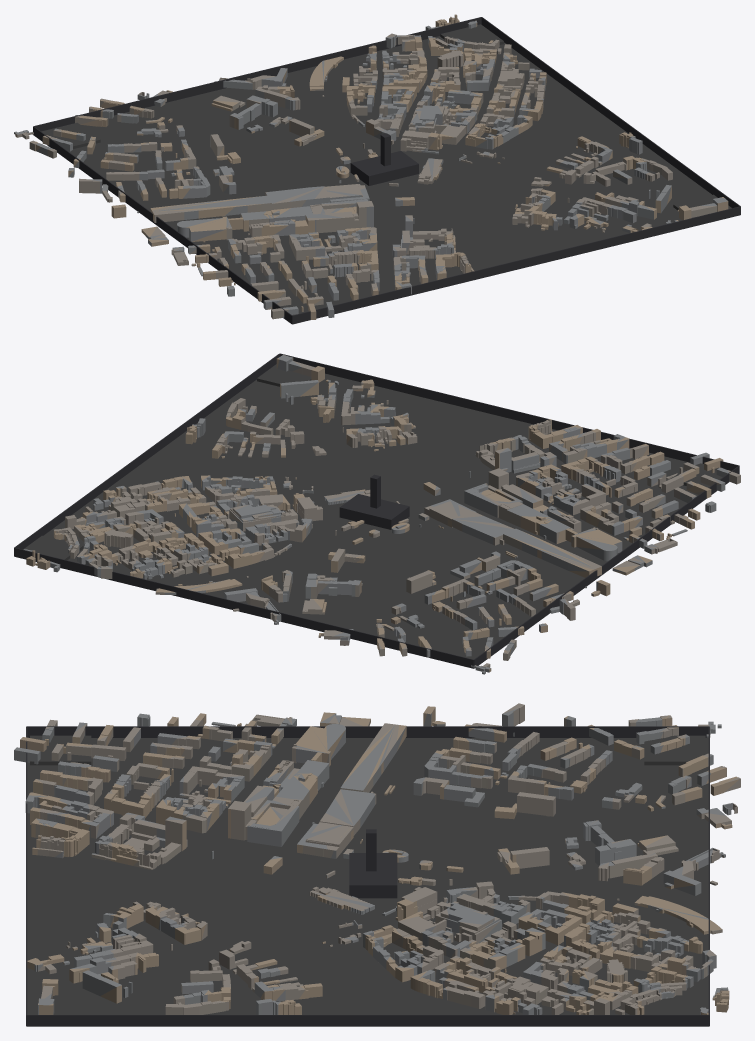
The model's file is SpandauStrike_Rathaus_FULLMAP_Collision.fbx.
3 views of the same model, one above another, from view 1: azimuth 30°, elevation 25°; view 2: azimuth 150°, elevation 25°; view 3: azimuth 270°, elevation 25° (orthographic). The views are drawn at different scales.
Parts seen in each view (by area): view 1: UCX_Spandau_FULLMAP_007, UCX_Spandau_FULLMAP_006, UCX_Spandau_FULLMAP_001, UCX_Spandau_FULLMAP_000, UCX_Spandau_FULLMAP_002, UCX_Spandau_FULLMAP_003, UCX_Spandau_FULLMAP_004, UCX_Spandau_FULLMAP_011, UCX_Spandau_FULLMAP_010; view 2: UCX_Spandau_FULLMAP_007, UCX_Spandau_FULLMAP_006, UCX_Spandau_FULLMAP_000, UCX_Spandau_FULLMAP_001, UCX_Spandau_FULLMAP_002, UCX_Spandau_FULLMAP_003, UCX_Spandau_FULLMAP_004, UCX_Spandau_FULLMAP_011, UCX_Spandau_FULLMAP_009, UCX_Spandau_FULLMAP_010; view 3: UCX_Spandau_FULLMAP_007, UCX_Spandau_FULLMAP_006, UCX_Spandau_FULLMAP_002, UCX_Spandau_FULLMAP_003, UCX_Spandau_FULLMAP_004, UCX_Spandau_FULLMAP_010, UCX_Spandau_FULLMAP_011, UCX_Spandau_FULLMAP_009, UCX_Spandau_FULLMAP_008, UCX_Spandau_FULLMAP_001, UCX_Spandau_FULLMAP_000.
Boxes of the visible parts, x1,y1,x2,y2 form: UCX_Spandau_FULLMAP_007: [14, 14, 728, 319]; UCX_Spandau_FULLMAP_006: [68, 36, 711, 305]; UCX_Spandau_FULLMAP_001: [292, 206, 740, 324]; UCX_Spandau_FULLMAP_000: [33, 17, 481, 131]; UCX_Spandau_FULLMAP_002: [481, 17, 740, 214]; UCX_Spandau_FULLMAP_003: [33, 126, 292, 323]; UCX_Spandau_FULLMAP_004: [350, 151, 418, 185]; UCX_Spandau_FULLMAP_011: [440, 24, 503, 52]; UCX_Spandau_FULLMAP_010: [41, 122, 100, 148]; UCX_Spandau_FULLMAP_007: [24, 355, 740, 674]; UCX_Spandau_FULLMAP_006: [43, 373, 698, 650]; UCX_Spandau_FULLMAP_000: [14, 547, 473, 668]; UCX_Spandau_FULLMAP_001: [280, 353, 738, 470]; UCX_Spandau_FULLMAP_002: [14, 353, 279, 555]; UCX_Spandau_FULLMAP_003: [474, 465, 739, 668]; UCX_Spandau_FULLMAP_004: [339, 494, 409, 529]; UCX_Spandau_FULLMAP_011: [23, 535, 83, 560]; UCX_Spandau_FULLMAP_009: [257, 364, 311, 386]; UCX_Spandau_FULLMAP_010: [437, 636, 485, 659]; UCX_Spandau_FULLMAP_007: [14, 703, 740, 1014]; UCX_Spandau_FULLMAP_006: [27, 738, 708, 1014]; UCX_Spandau_FULLMAP_002: [26, 1015, 709, 1026]; UCX_Spandau_FULLMAP_003: [27, 726, 709, 737]; UCX_Spandau_FULLMAP_004: [349, 853, 397, 898]; UCX_Spandau_FULLMAP_010: [644, 735, 705, 765]; UCX_Spandau_FULLMAP_011: [644, 995, 705, 1014]; UCX_Spandau_FULLMAP_009: [30, 995, 91, 1014]; UCX_Spandau_FULLMAP_008: [30, 735, 91, 765]; UCX_Spandau_FULLMAP_001: [26, 726, 27, 1026]; UCX_Spandau_FULLMAP_000: [708, 726, 709, 1026].
Size of the model in its own units: 1064 by 1065 by 83.52.
